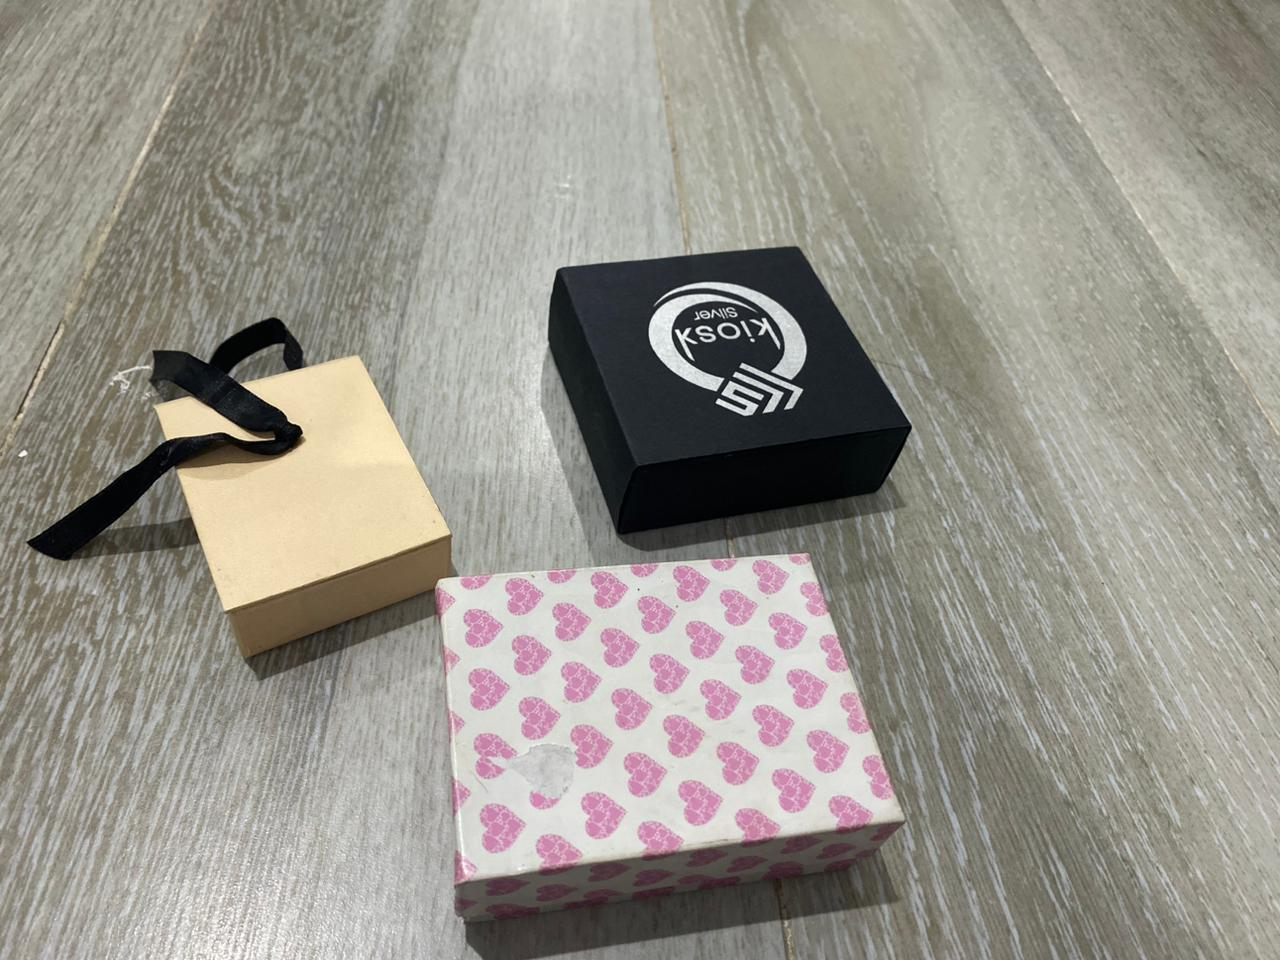Pink Box: (437, 550, 906, 925)
Red Box: (542, 244, 917, 536)
Yellow Box: (156, 355, 456, 667)
